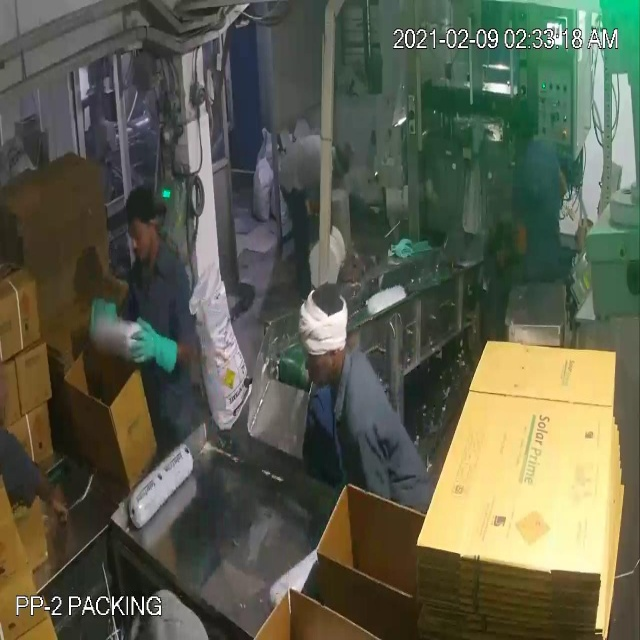Guantes: (124, 314, 181, 385)
Sin_guantes: (20, 431, 76, 547)
